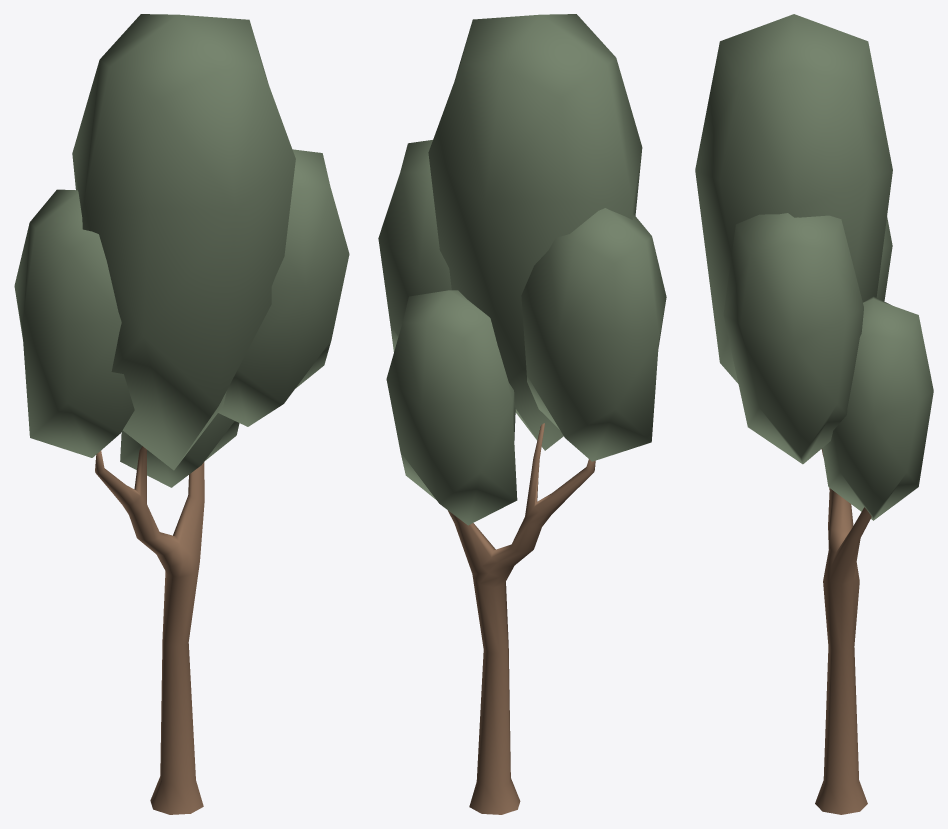
File: EP_ENV_bigtree.fbx
The picture shows the model from 3 angles, left to right: view 1: azimuth 30°, elevation 25°; view 2: azimuth 150°, elevation 25°; view 3: azimuth 270°, elevation 25°; orthographic projection. The views are drawn at different scales.
Visible parts, largest first — view 1: EP_ENV_bigtree; view 2: EP_ENV_bigtree; view 3: EP_ENV_bigtree.
Boxes of the visible parts, bbox=[...] form: EP_ENV_bigtree: bbox=[14, 14, 349, 814]; EP_ENV_bigtree: bbox=[378, 14, 666, 814]; EP_ENV_bigtree: bbox=[695, 14, 933, 814].
Size of the model in its own units: 254 by 653 by 181.
